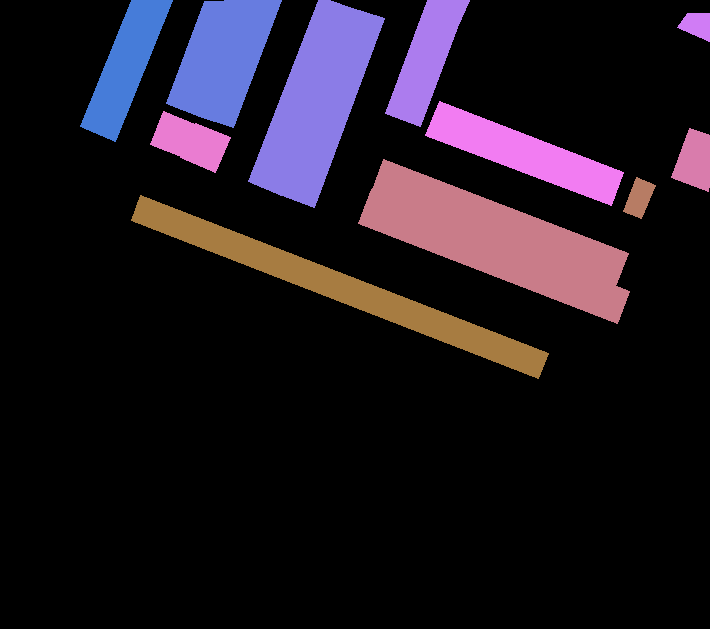parkingspot: (131, 195, 548, 378), (358, 189, 629, 323), (371, 159, 628, 286), (279, 7, 384, 207), (425, 101, 623, 205), (248, 0, 352, 195), (80, 0, 172, 141), (196, 0, 281, 127), (385, 0, 469, 126), (166, 0, 243, 116), (671, 128, 710, 191), (180, 123, 230, 172), (150, 111, 197, 157), (623, 177, 655, 218), (677, 13, 710, 41)
